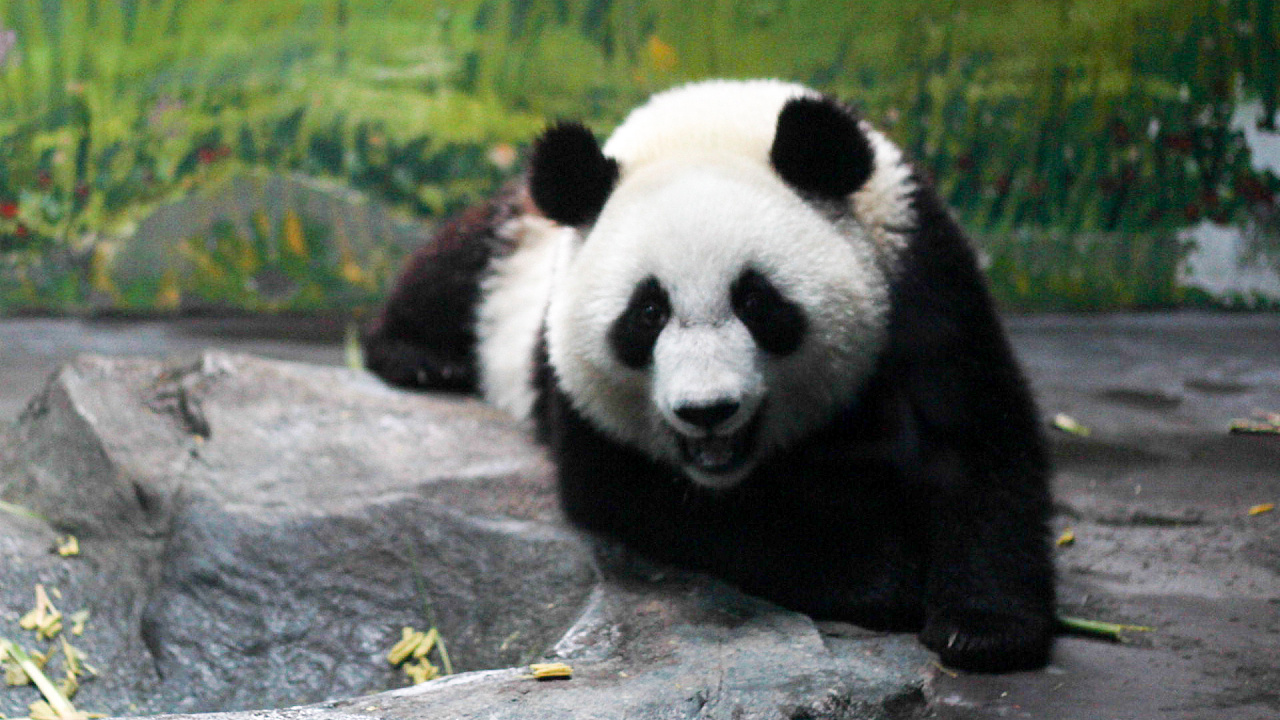panda: (382, 58, 1116, 680)
